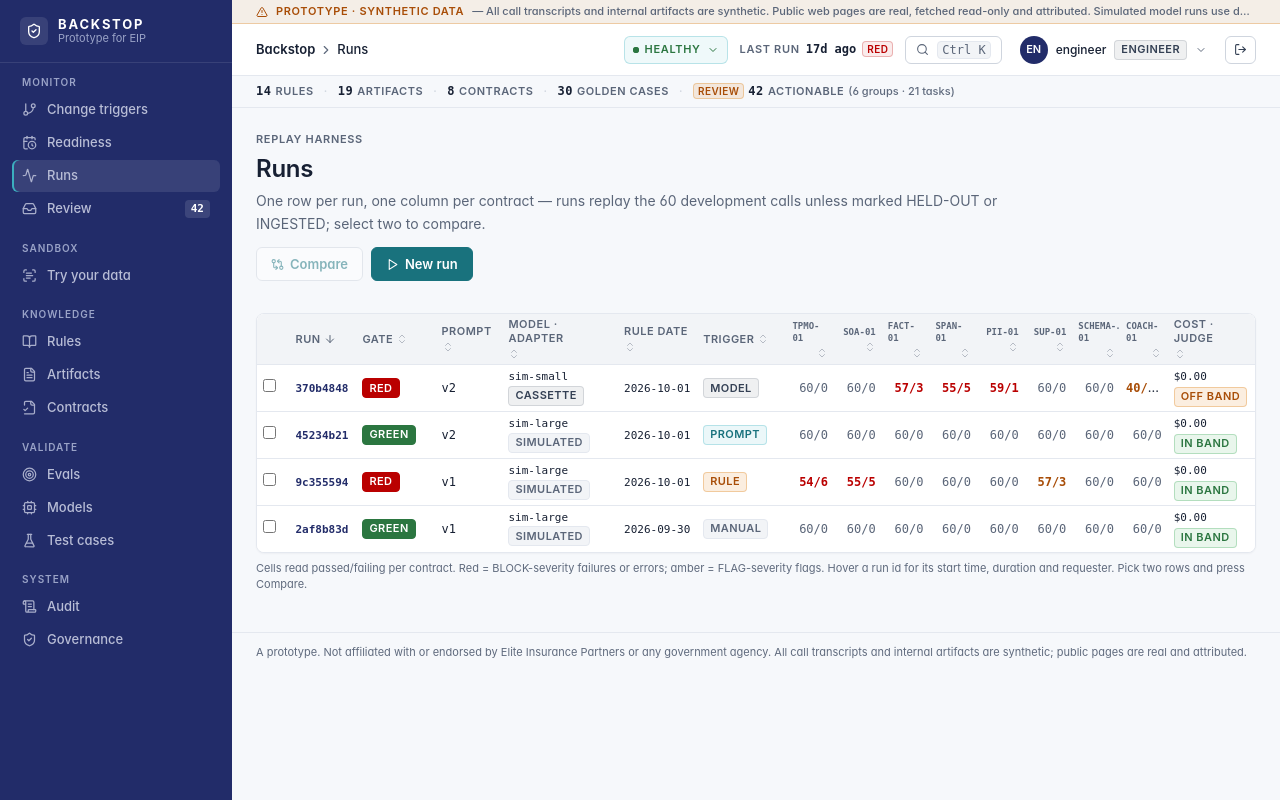
Test: roles and access › gives an engineer the real "New run" button
The width and height of the screenshot is (1280, 800).
Click the button "New run" at (422, 264), box top-left (371, 247), bottom-right (473, 281)
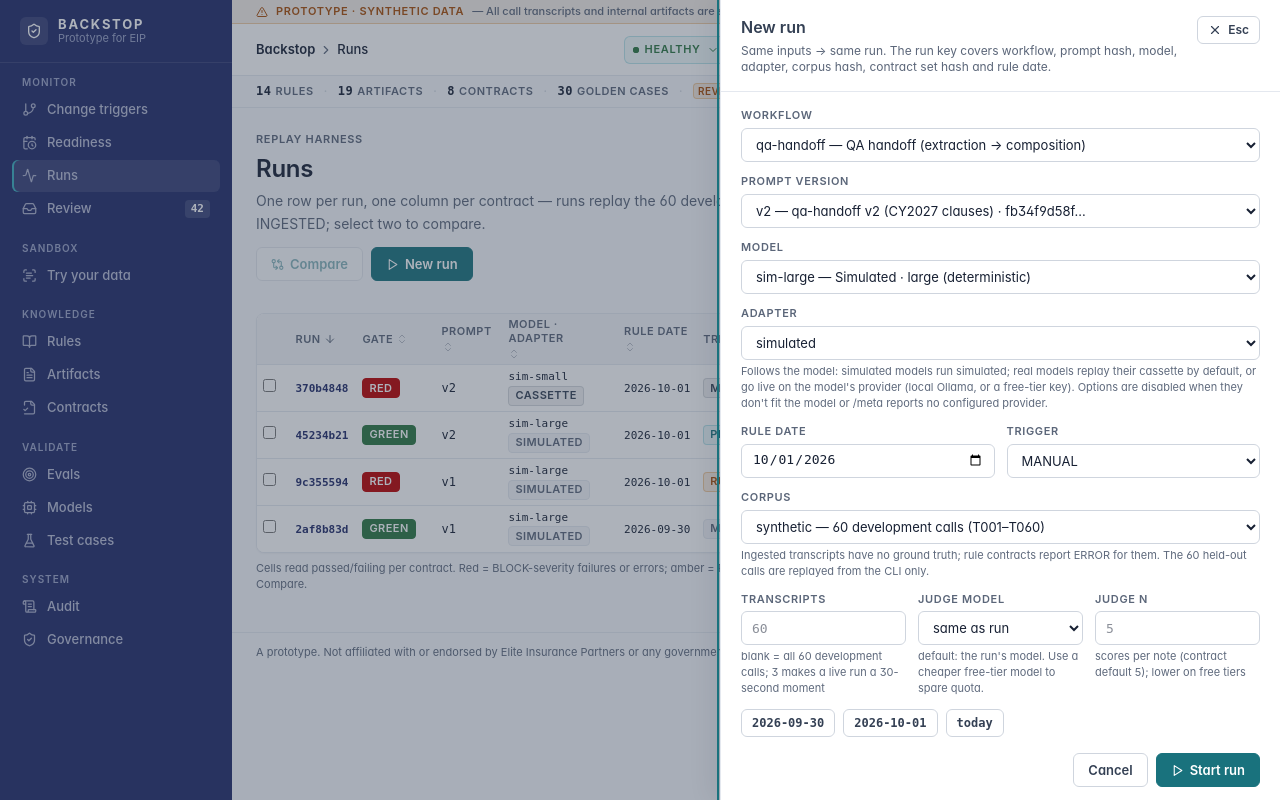
Expected: the dialog "New run" is shown, top-left (720, 0), bottom-right (1279, 799)
